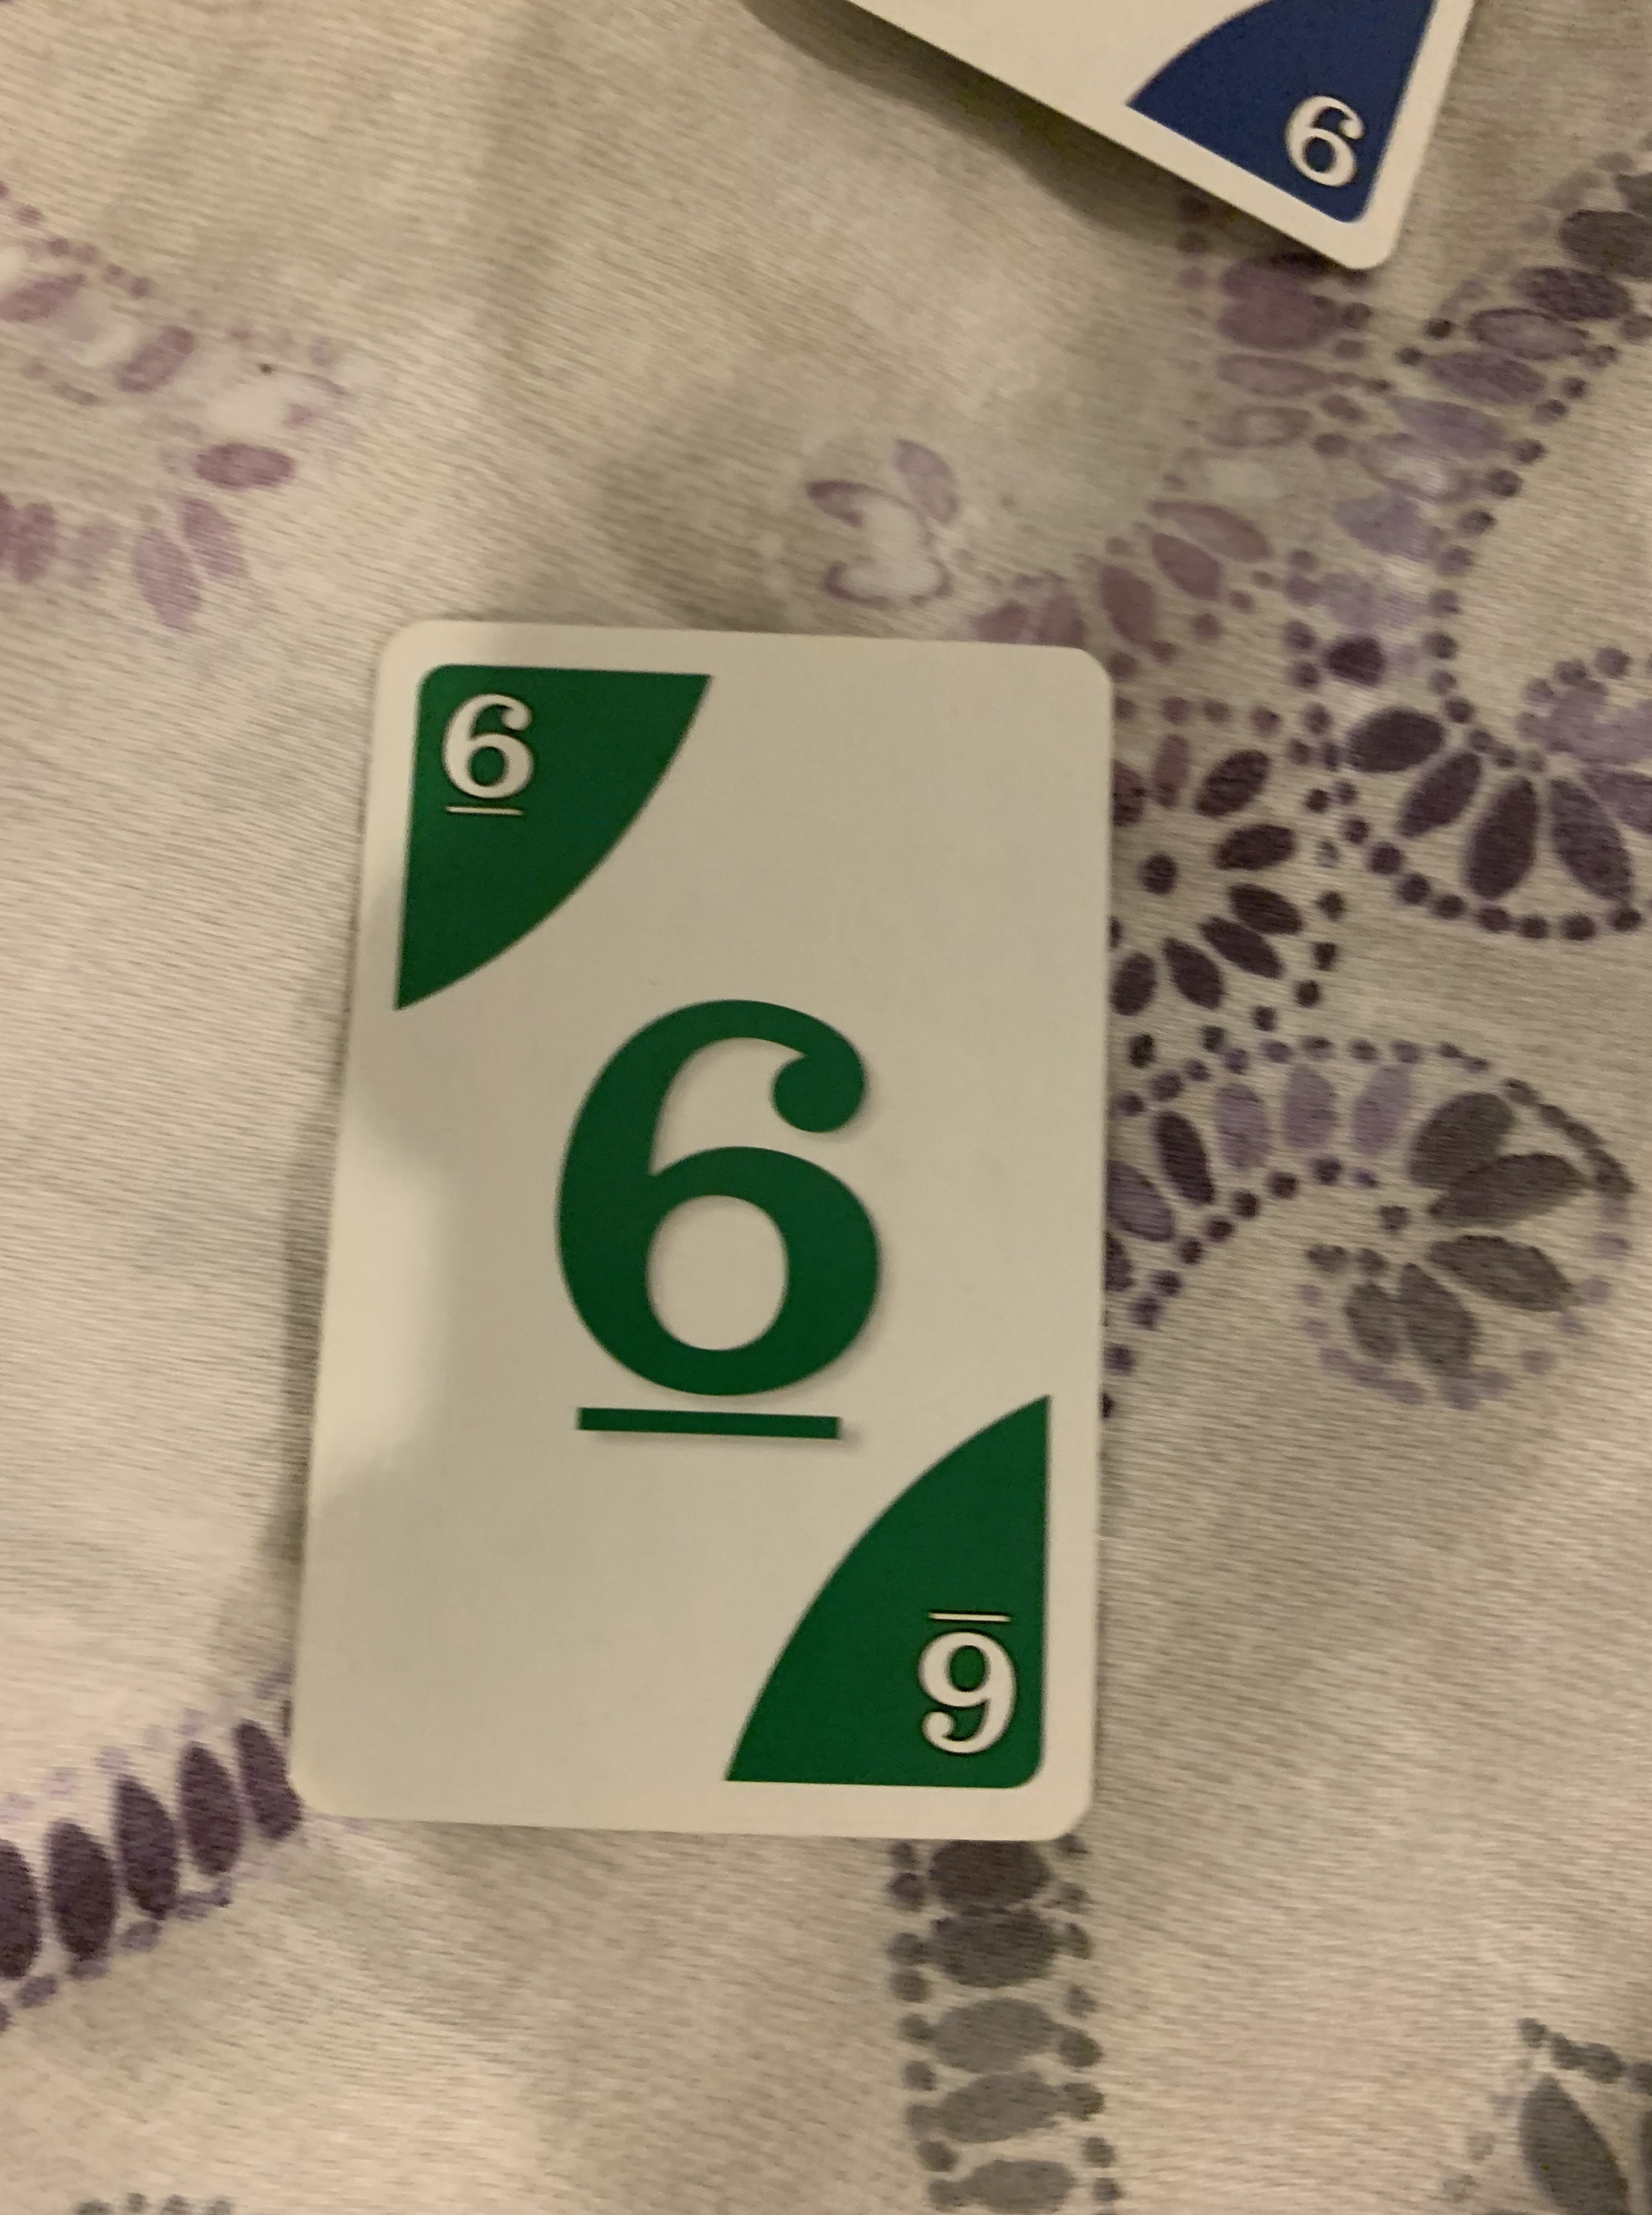six: (269, 608, 1133, 1844)
